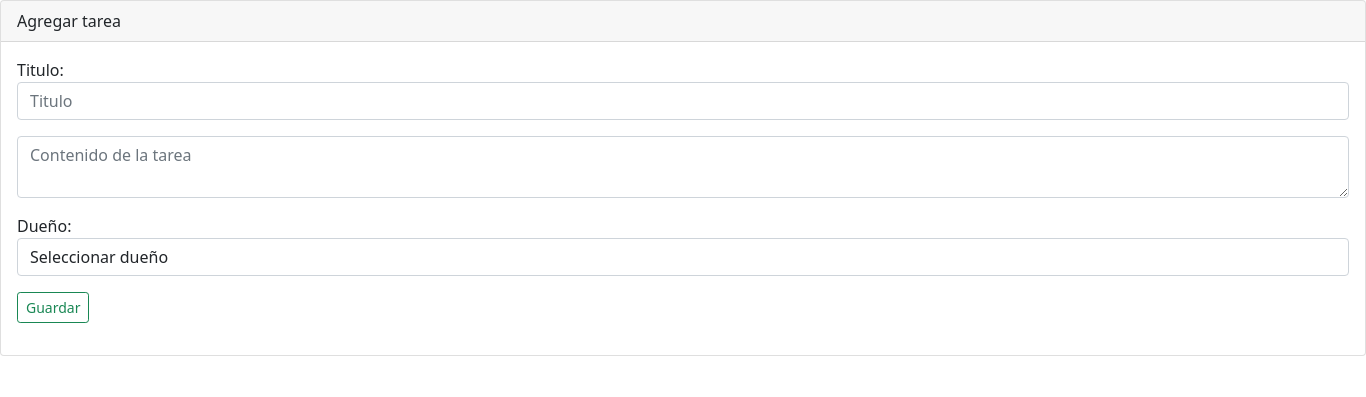
Scenario: Form Component › should show error message when submitting form with empty fields
Click the button "Guardar".
click(53, 308)  # box [17, 292, 90, 323]
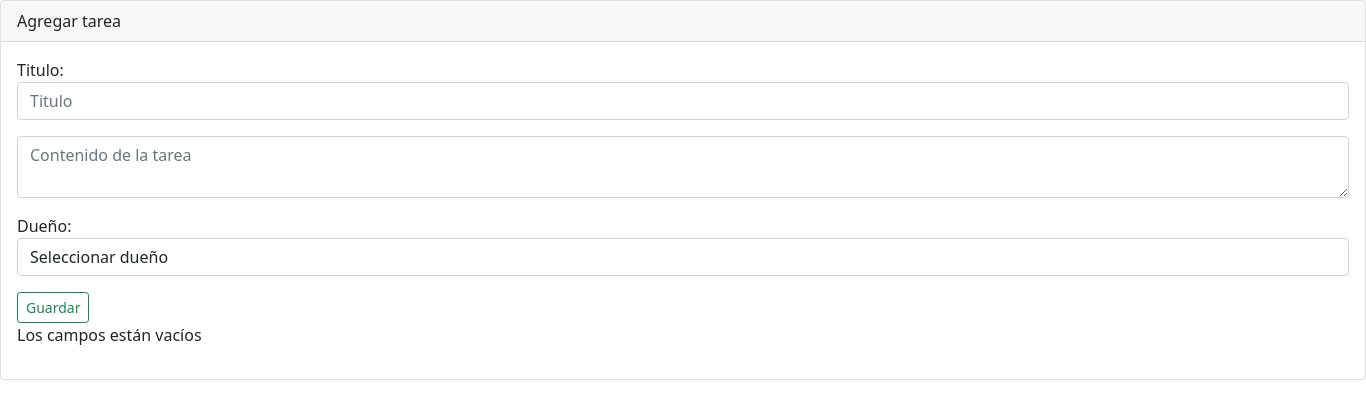
Expected: the text "Los campos están vacíos" is shown, [17, 324, 202, 346]
